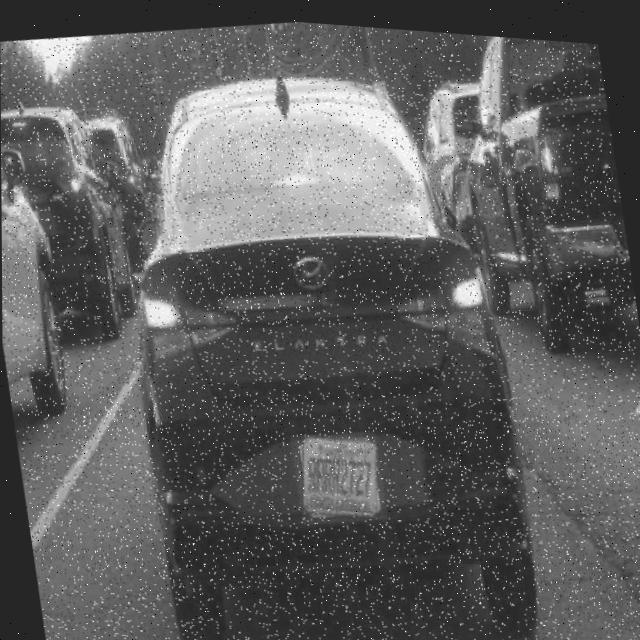LicensePlate: (302, 432, 377, 514)
